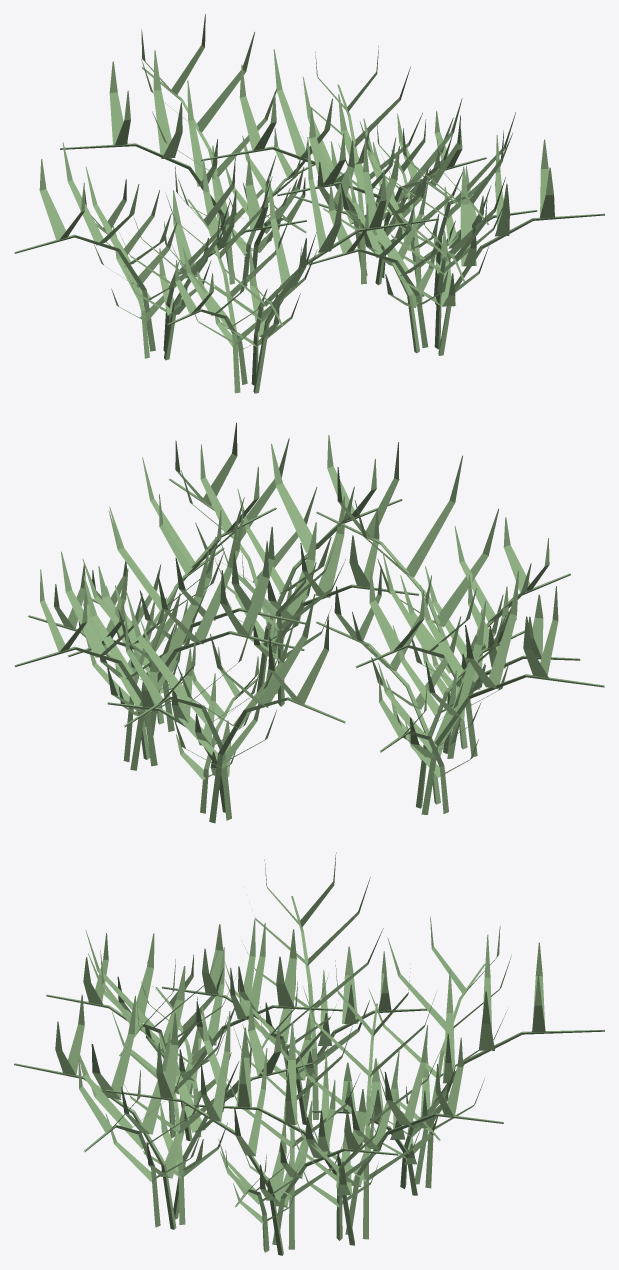
The model's file is bracken-stand.glb.
3 views of the same model, one above another, from view 1: azimuth 30°, elevation 25°; view 2: azimuth 150°, elevation 25°; view 3: azimuth 270°, elevation 25° (orthographic). The views are drawn at different scales.
Parts seen in each view (by area): view 1: bracken-stand; view 2: bracken-stand; view 3: bracken-stand.
Part boxes in pixels (x1=…): bracken-stand: x1=14, y1=14, x2=604, y2=393; bracken-stand: x1=14, y1=422, x2=604, y2=823; bracken-stand: x1=14, y1=852, x2=604, y2=1255.
Size of the model in its own units: 2.36 by 1.03 by 2.35.
